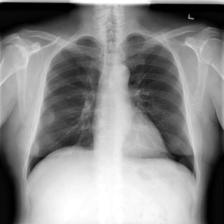normal: (20, 29, 200, 182)
